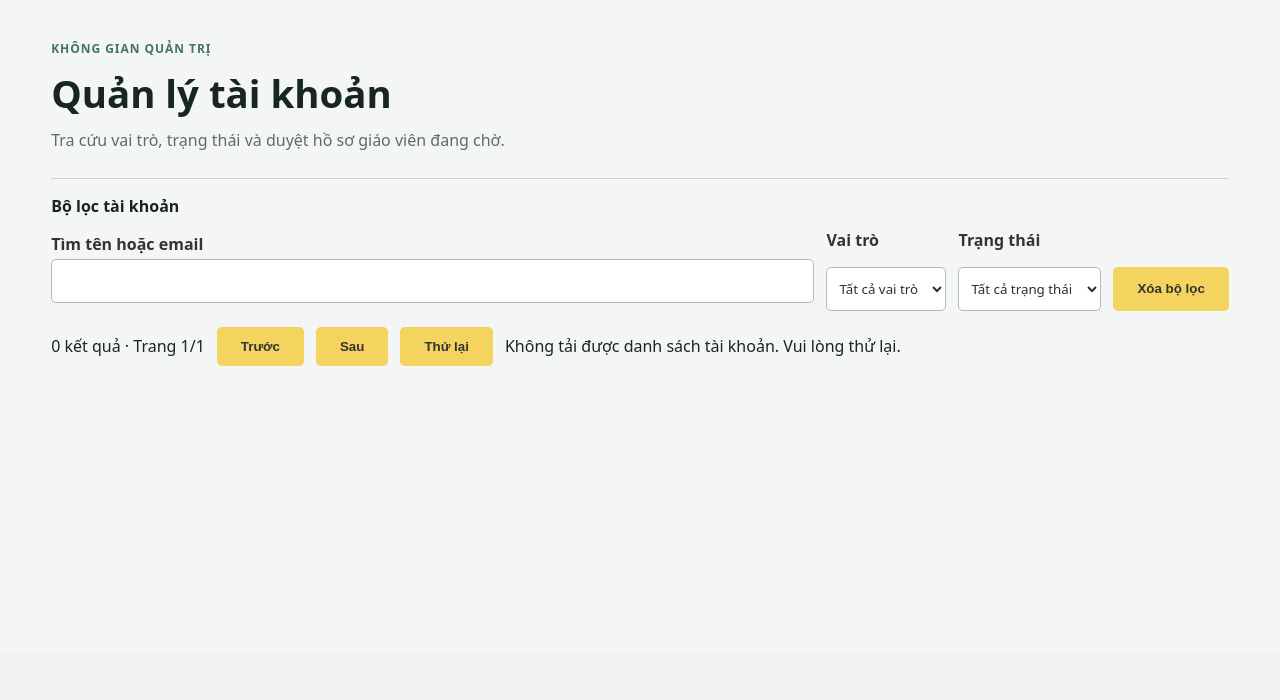
Test: lỗi đọc có thử lại và không bị diễn giải là chưa có tài khoản
The image size is (1280, 700).
What coordinates should you click on to do the following:
click the button "Thử lại"
I would click on:
 (447, 346)
Its box is [400,327,493,366].
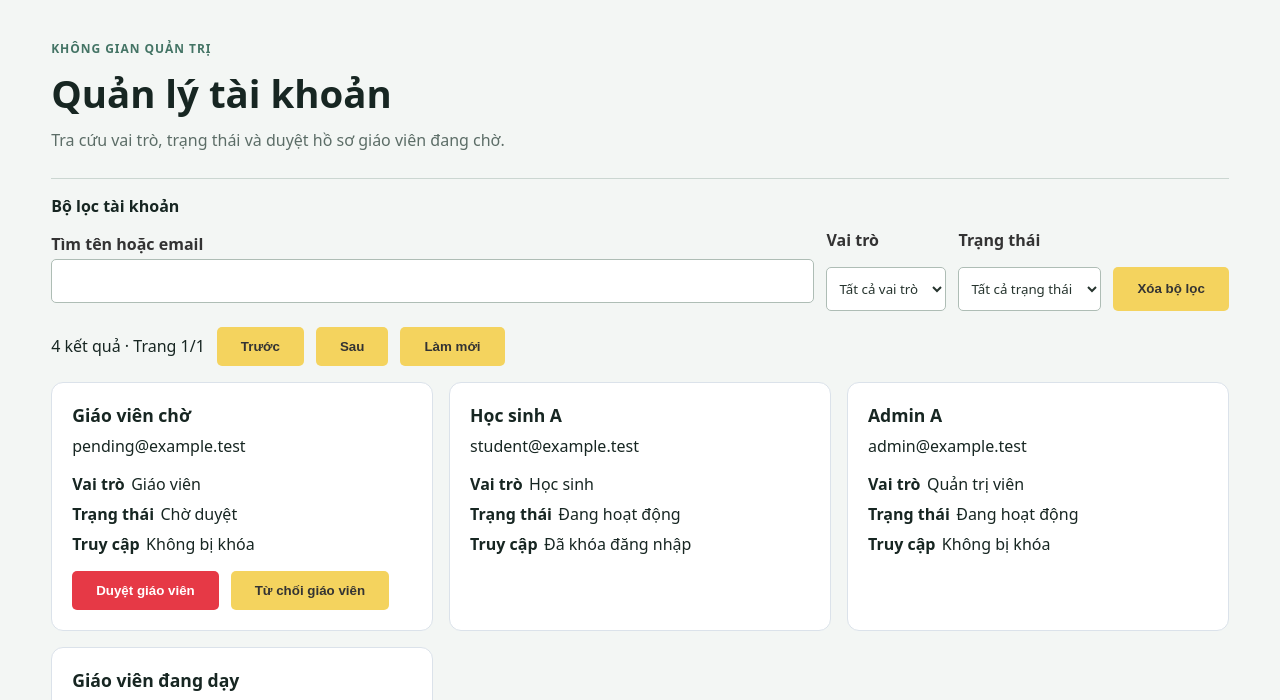
expect the text "pending@example.test" is shown: met, box [72,435,246,457]
